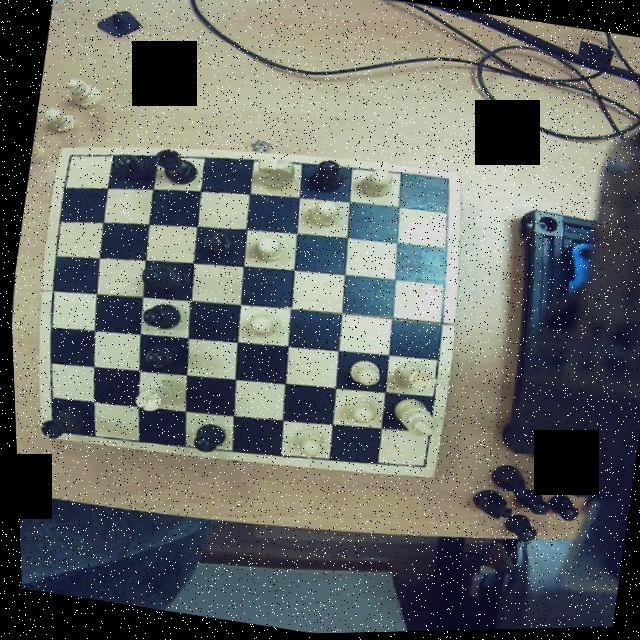chess-table-corners: (426, 170, 456, 198), (34, 418, 67, 442), (405, 452, 433, 478), (54, 148, 80, 171)
